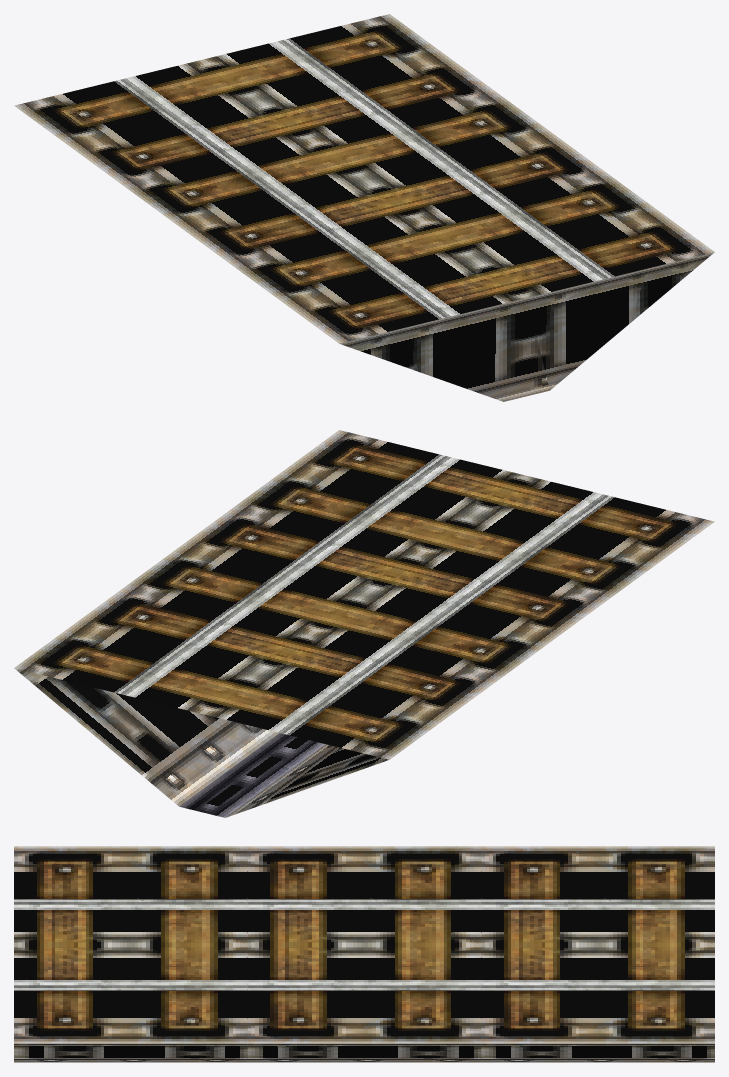
The picture shows the model from 3 angles, top to bottom: view 1: azimuth 30°, elevation 25°; view 2: azimuth 150°, elevation 25°; view 3: azimuth 270°, elevation 25°; orthographic projection. The views are drawn at different scales.
Visible parts, largest first — view 1: prim174-Track-I02; view 2: prim174-Track-I02; view 3: prim174-Track-I02.
Boxes of the visible parts, bbox=[...] form: prim174-Track-I02: bbox=[14, 14, 714, 401]; prim174-Track-I02: bbox=[14, 430, 714, 817]; prim174-Track-I02: bbox=[14, 846, 714, 1062].
Size of the model in its own units: 512 by 128 by 768.
Materials: 3 (3 with a texture image).
